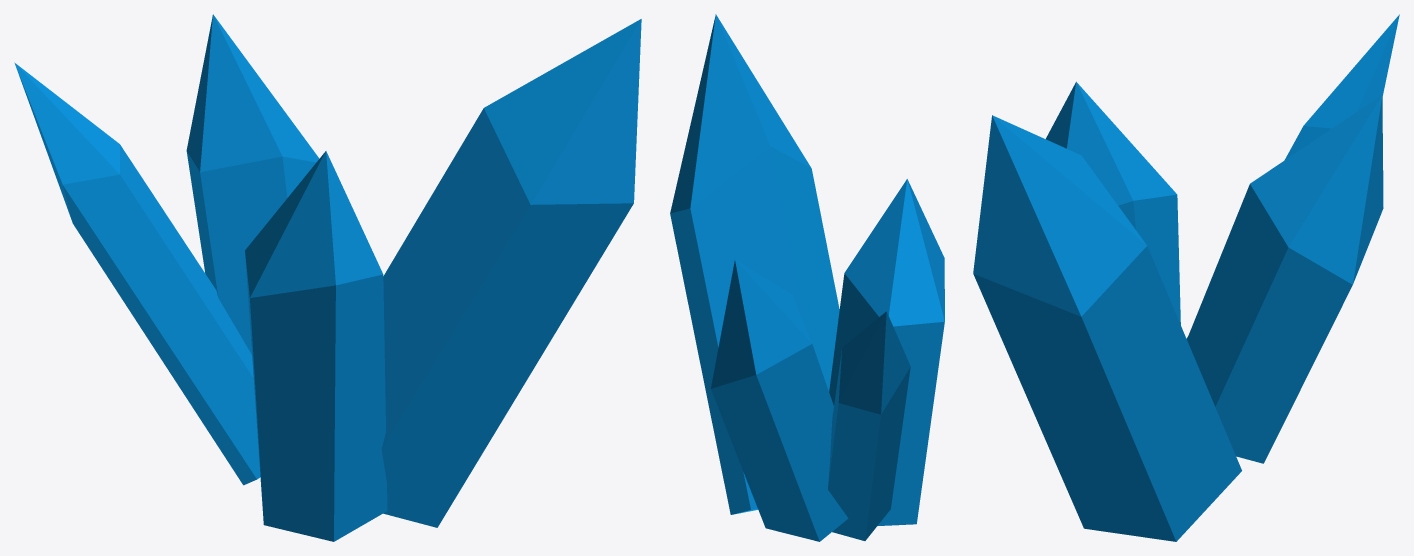
Rendered from SM_CrystalClusterSmall.fbx.
3 views of the same model, side by side, from view 1: azimuth 30°, elevation 25°; view 2: azimuth 150°, elevation 25°; view 3: azimuth 270°, elevation 25° (orthographic). The views are drawn at different scales.
Visible parts, largest first — view 1: Icosphere.026; view 2: Icosphere.026; view 3: Icosphere.026.
Part boxes in pixels (x1=…): Icosphere.026: x1=14, y1=14, x2=641, y2=541; Icosphere.026: x1=670, y1=14, x2=944, y2=541; Icosphere.026: x1=973, y1=14, x2=1399, y2=541.
Bounding box in the file's own units: 78.05 × 89.16 × 70.8.
